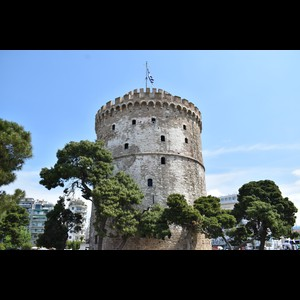White Tower: (87, 62, 211, 249)
